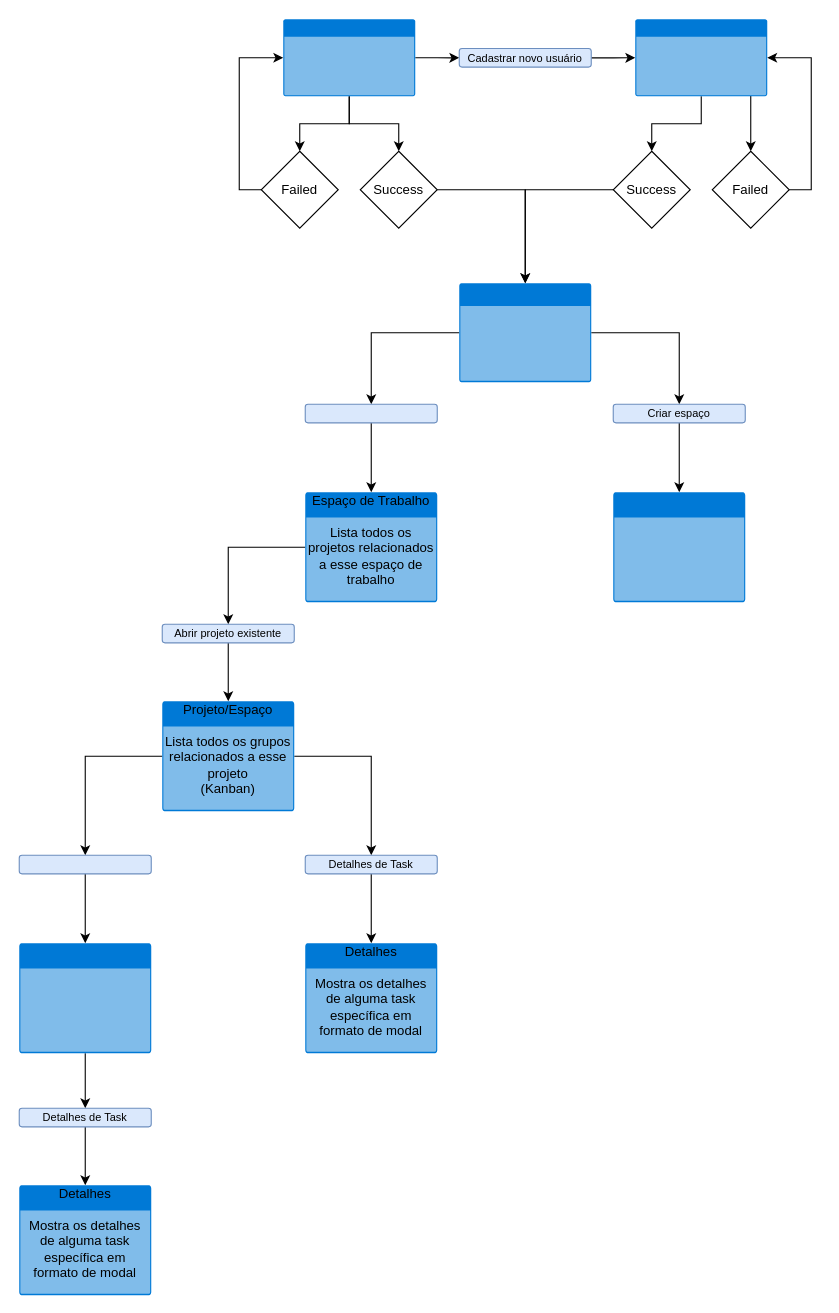
Some shapes in this 839 by 1313 pixel diagram are drawn without their labels. Here are the shapes that lost their labels. From the top down, the centre of each, then its label:
point 349,57: Login
point 701,57: Cadastrar Usuário
point 525,332: Home Lista com todos os espaços de trabalho atribuidos aquele user
point 370,413: Abrir espaço existente
point 679,547: Cadastrar Criação de Espaço de Trabalho
point 84,864: Abrir grupo
point 85,998: Grupo Kanban com as tasks relacionadas a esse grupo (sub Kanban)
